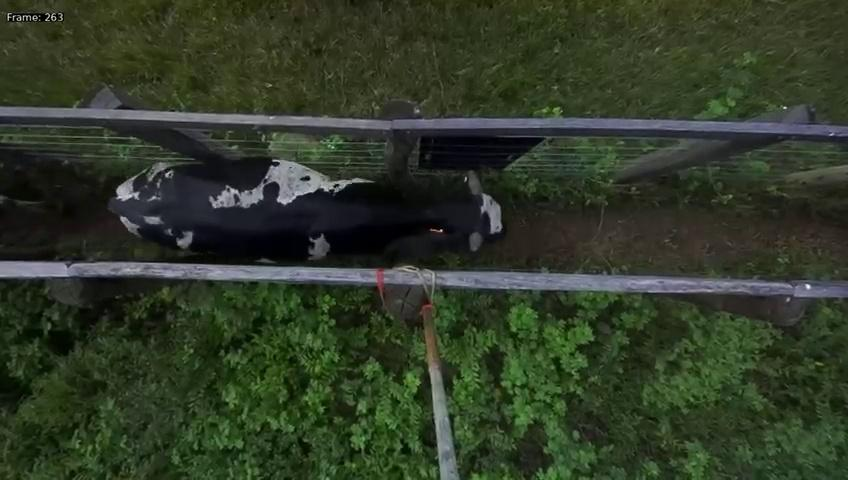cattle: (106, 144, 508, 273)
